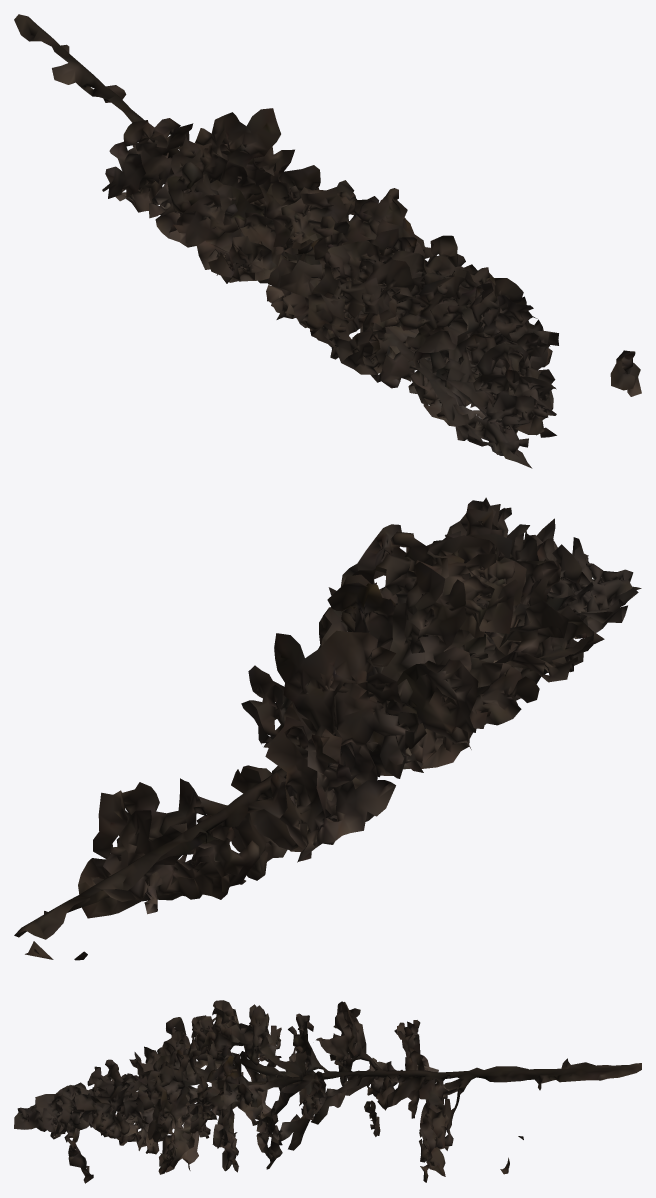
File: tree_mesh.dae
The picture shows the model from 3 angles, top to bottom: view 1: azimuth 30°, elevation 25°; view 2: azimuth 150°, elevation 25°; view 3: azimuth 270°, elevation 25°; orthographic projection. The views are drawn at different scales.
Visible parts, largest first — view 1: node0; view 2: node0; view 3: node0.
Part boxes in pixels (box(x1,y1,x2,y2)): node0: box(14, 14, 641, 468); node0: box(14, 497, 641, 960); node0: box(14, 1000, 641, 1183).
Size of the model in its own units: 9.46 by 6.32 by 27.01.
